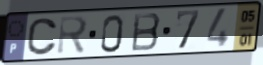0: (99, 13, 126, 54)
4: (205, 6, 232, 52)
7: (175, 8, 202, 52)
B: (129, 11, 163, 53)
C: (25, 17, 59, 57)
R: (55, 14, 90, 57)
